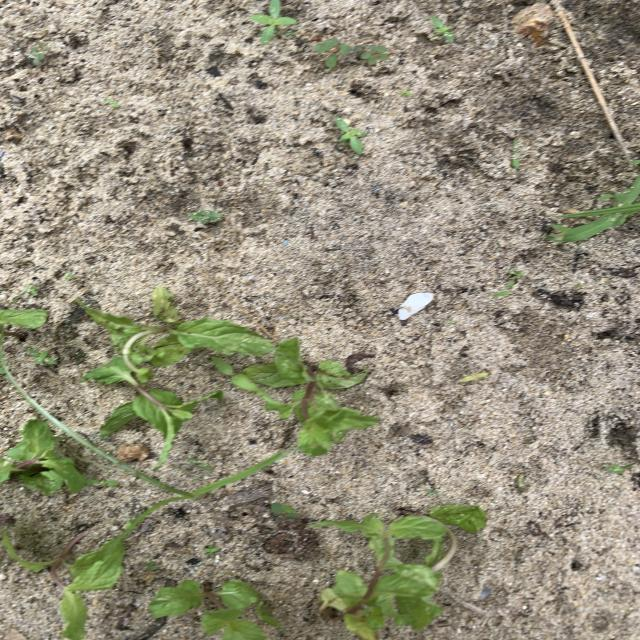crop: (317, 504, 487, 639), (82, 286, 276, 380), (224, 337, 377, 454), (13, 531, 124, 639), (0, 419, 117, 495), (104, 388, 222, 462), (150, 580, 279, 639), (0, 309, 47, 329)
weed: (0, 355, 287, 540), (546, 176, 639, 243), (249, 0, 295, 44), (315, 41, 388, 67), (337, 117, 367, 154), (428, 15, 454, 43), (29, 348, 57, 366), (270, 502, 298, 519), (460, 372, 489, 382)
